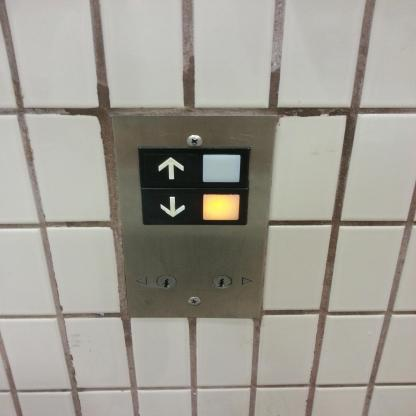down: (138, 185, 250, 228)
keyhole: (154, 272, 178, 290), (210, 272, 234, 290)
up: (138, 143, 252, 192)
